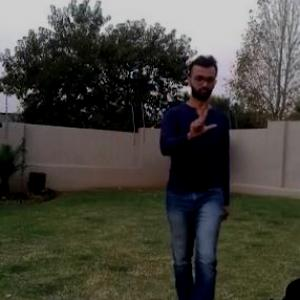land_hand: (183, 106, 222, 146)
